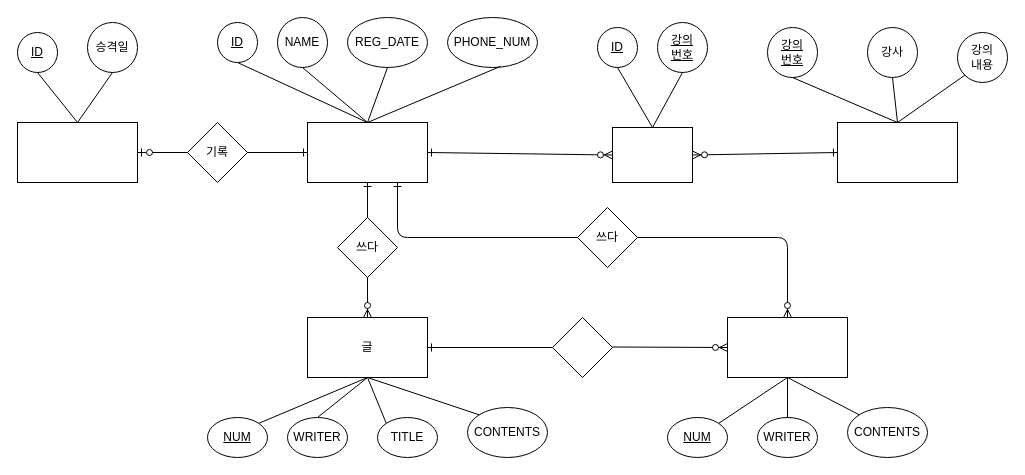
This 1025x475 diagram has some shape labels left out. Here are the shapes that lost their labels. From the top down, the box of each, then its label:
(16, 122, 138, 182): 관리자
(306, 122, 428, 182): 회원
(612, 126, 692, 182): 신청목록
(836, 122, 958, 182): 강의
(552, 316, 612, 378): 포함
(726, 316, 848, 378): 댓글
